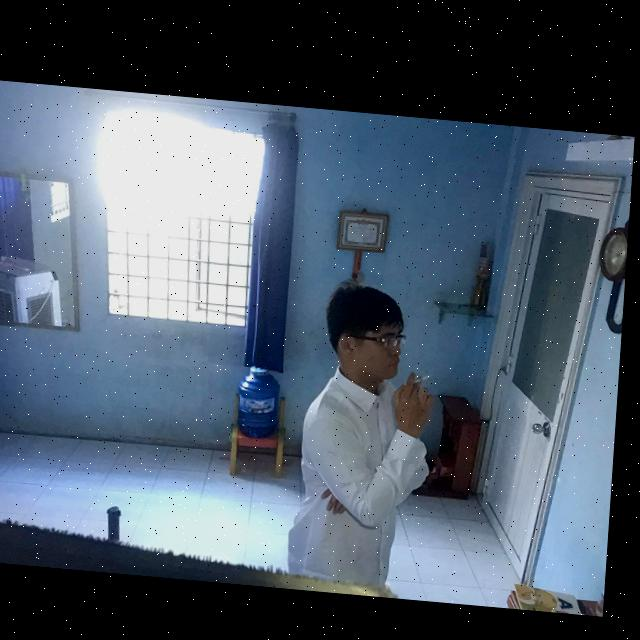cigarette: (409, 366, 435, 380)
